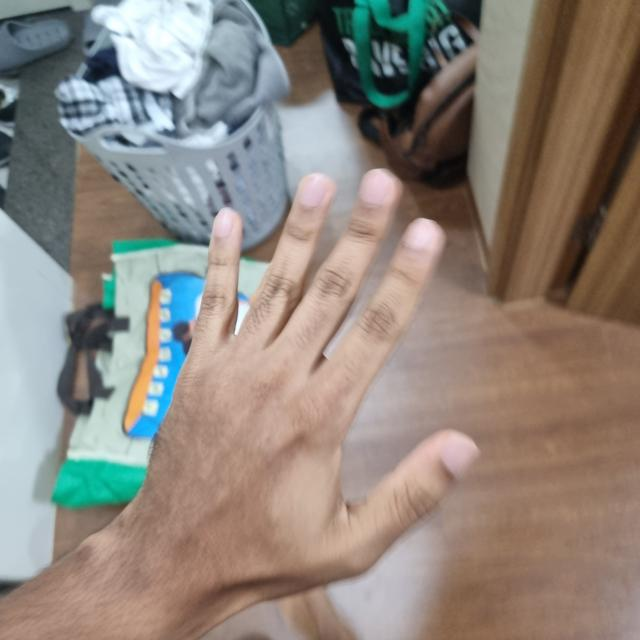Paper: (126, 47, 479, 601)
